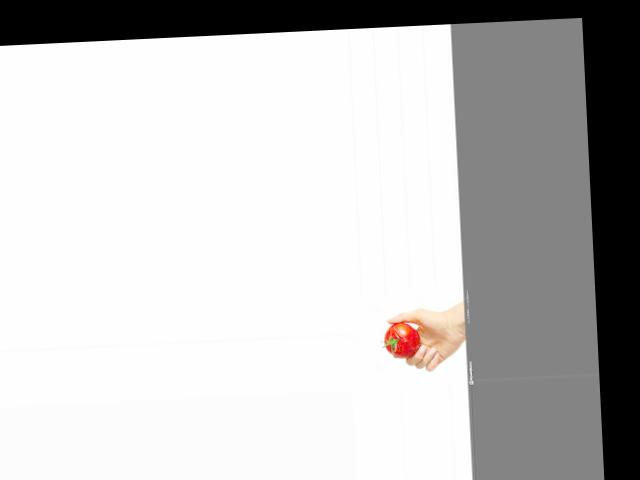tomato: (382, 321, 421, 358)
